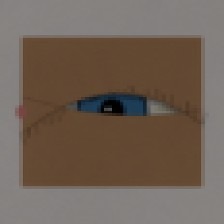pterygium_lesion: (149, 90, 202, 134)
